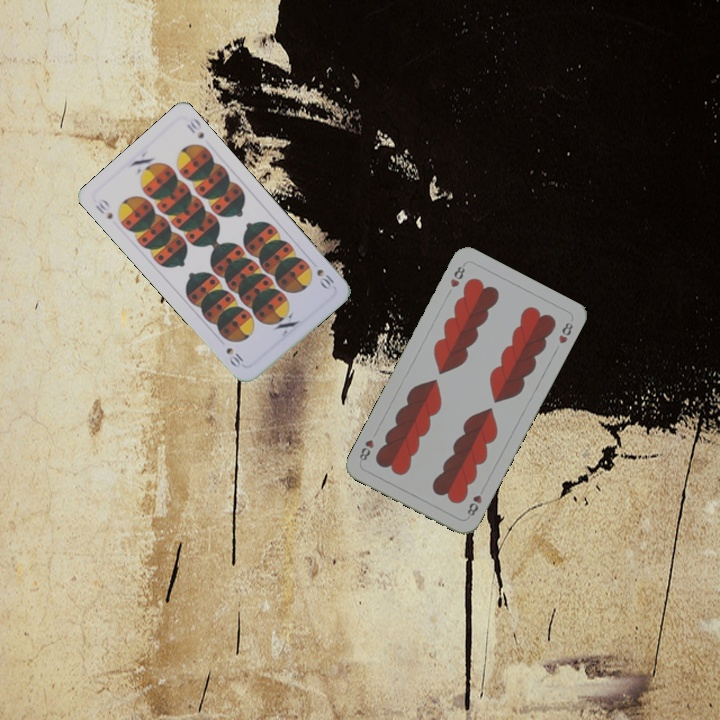H8: (463, 483, 487, 519), (446, 260, 468, 290)
S10: (312, 265, 338, 292), (91, 195, 116, 222)
